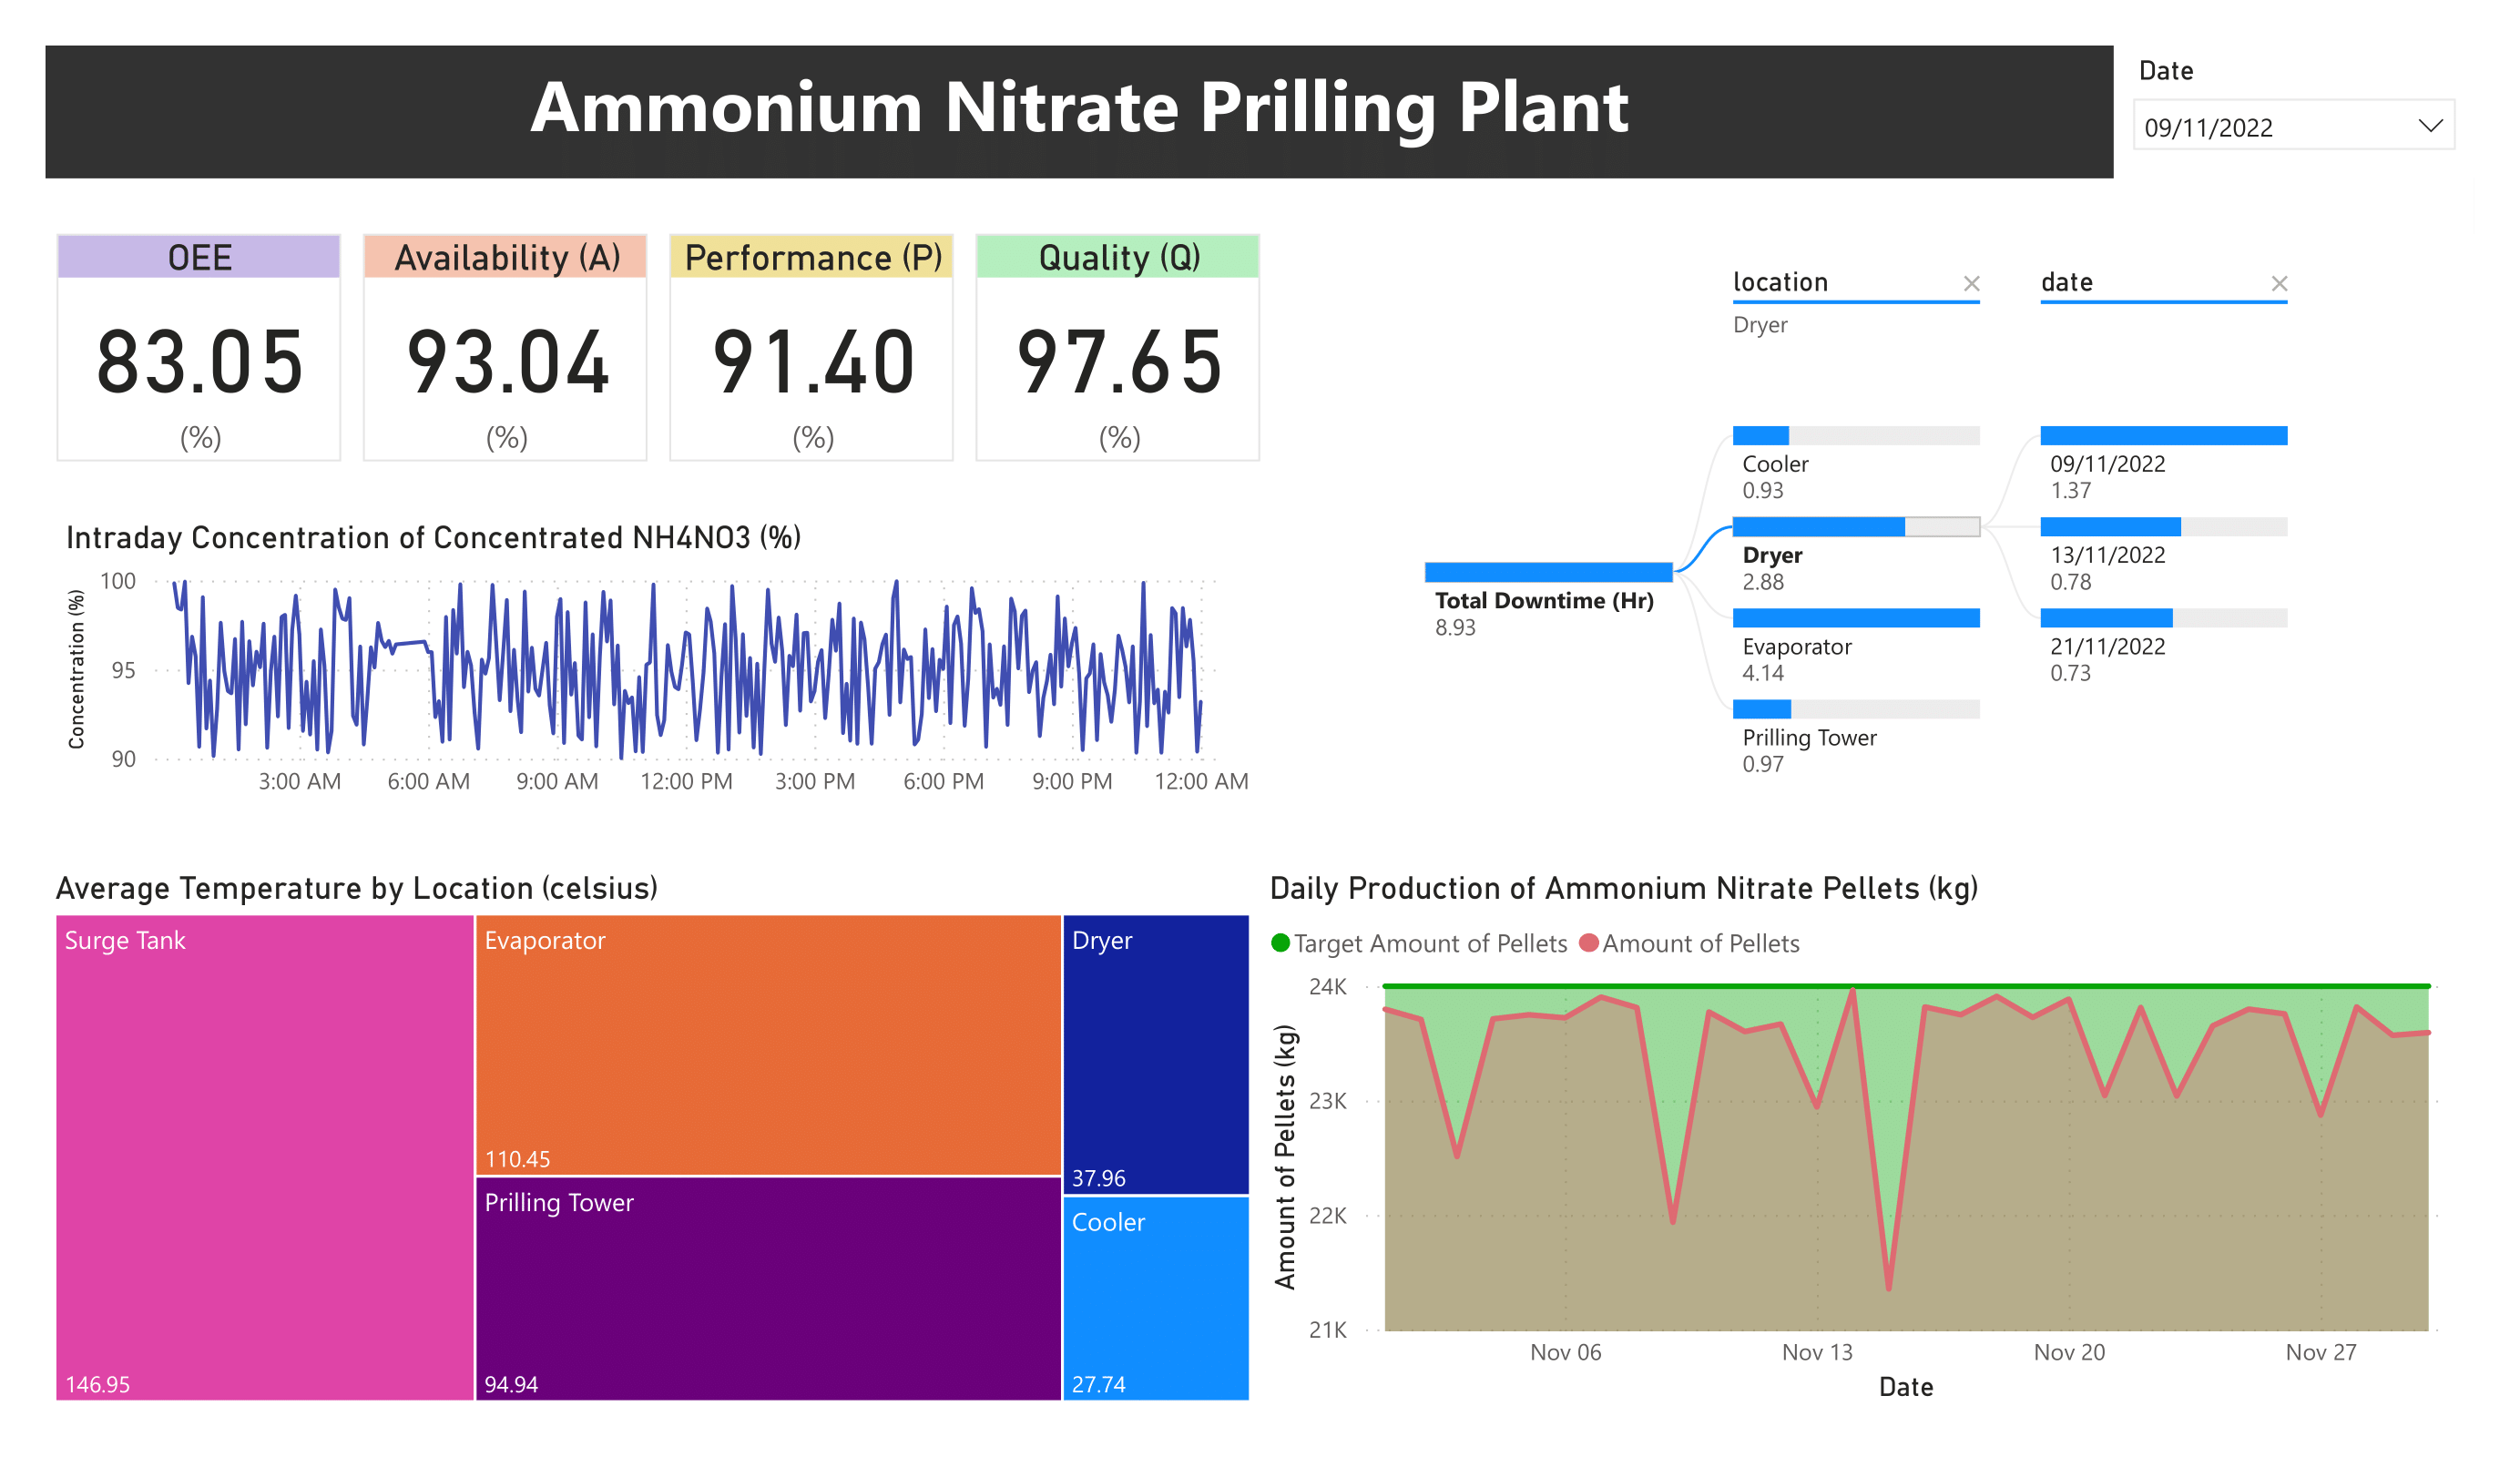

The dashboard page shown, as its layout file describes it:
{"tool":"powerbi","page":{"name":"Main","canvas":[1280,720],"ordinal":0},"visuals":[{"type":"textbox","box":[0,0,1090.3,70],"z":0},{"type":"slicer","fields":{"Values":["Evapolator.date"]},"box":[1090.3,0,189.7,70],"z":1000},{"type":"areaChart","title":"Daily Production of Ammonium Nitrate Pellets (kg)","fields":{"Category":["Cooler.date"],"Y":["Information.TARGET_DAILY_PRODUCTION","Sum(Cooler.production (kg/5min))"]},"box":[640,433.8,640,286],"z":2000},{"type":"card","title":"Performance (P)","fields":{"Values":["Cooler.DAILY_PERFORMANCE"]},"box":[328.8,99.2,149.8,119.6],"z":3000},{"type":"card","title":"Quality (Q)","fields":{"Values":["Surge Tank.DAILY_QUALITY"]},"box":[490.2,99.2,149.8,119.6],"z":4000},{"type":"card","title":"Availability (A)","fields":{"Values":["Downtime.DAILY_AVAILABILITY"]},"box":[167.3,99.2,149.8,119.6],"z":5000},{"type":"card","title":"OEE","fields":{"Values":["Information.OEE"]},"box":[5.8,99.2,149.8,119.6],"z":6000},{"type":"treemap","title":"Average Temperature by Location (celsius)","fields":{"Values":["Avg(Cooler.temperature)","Avg(Dryer.temperature)","Avg(Evapolator.temperature)","Avg(Prilling Tower.temperature)","Avg(Surge Tank.temperature)"]},"box":[0,433.8,640,286],"z":7000},{"type":"decompositionTreeVisual","fields":{"Analyze":["Sum(Downtime.total downtime (hr))"],"ExplainBy":["Downtime.location","Downtime.date"]},"box":[697.4,99.2,582.6,334.6],"z":8000},{"type":"lineChart","title":"Intraday Concentration of Concentrated NH4NO3 (%)","fields":{"Category":["Surge Tank.time"],"Y":["Sum(Surge Tank.concentration)"]},"box":[5.8,249,634.2,156.6],"z":9000}]}

Visuals, with their boxes in screenshot pixels (x1, y1, x2, y2):
textbox: 46 46 2115 178
slicer - Evapolator.date: 2115 46 2474 178
"Daily Production of Ammonium Nitrate Pellets (kg)" areaChart: 1260 869 2474 1411
"Performance (P)" card: 669 234 954 461
"Quality (Q)" card: 975 234 1260 461
"Availability (A)" card: 363 234 648 461
"OEE" card: 56 234 341 461
"Average Temperature by Location (celsius)" treemap: 46 869 1260 1411
decompositionTreeVisual - Sum(Downtime.total downtime (hr)) x Downtime.location: 1369 234 2474 869
"Intraday Concentration of Concentrated NH4NO3 (%)" lineChart: 56 518 1260 815
